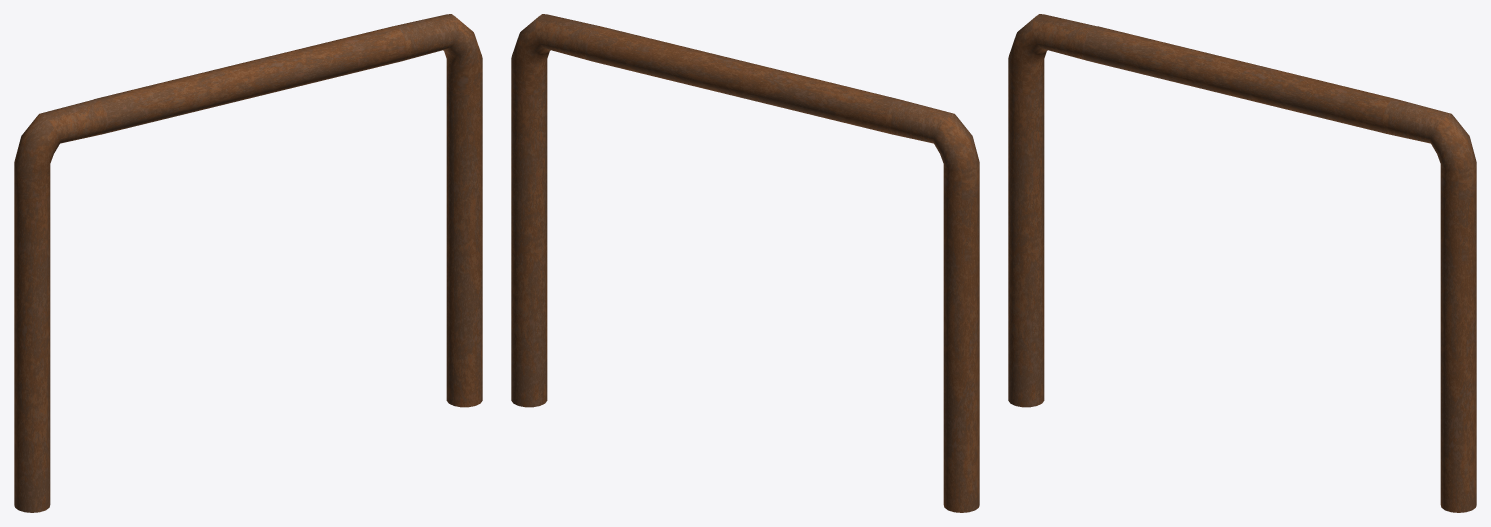
File: WholePipe.fbx
3 renders of one model, left to right at view 1: azimuth 30°, elevation 25°; view 2: azimuth 150°, elevation 25°; view 3: azimuth 330°, elevation 25°, orthographic.
Parts seen in each view (by area): view 1: WholePipe; view 2: WholePipe; view 3: WholePipe.
Part boxes in pixels (x1,y1,x2,y2): WholePipe: (14,14,482,512); WholePipe: (511,14,979,512); WholePipe: (1008,14,1476,512).
Bounding box in the file's own units: 310 × 249 × 23.98.
